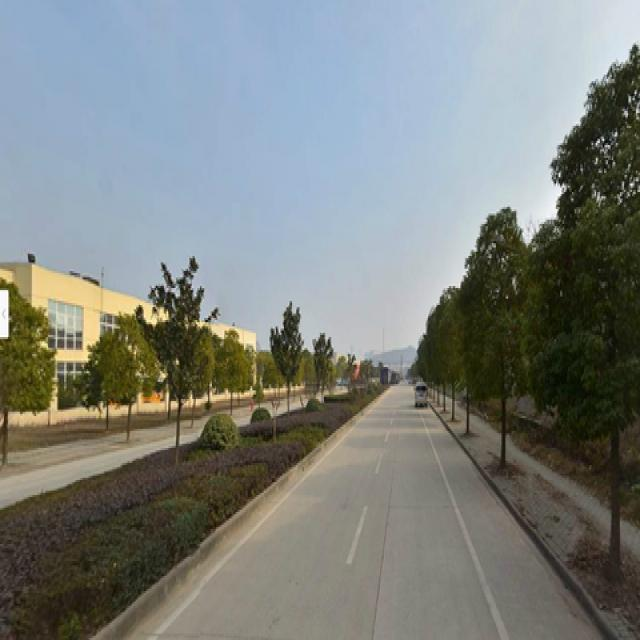cinn: (562, 145, 630, 574), (480, 233, 520, 484)
